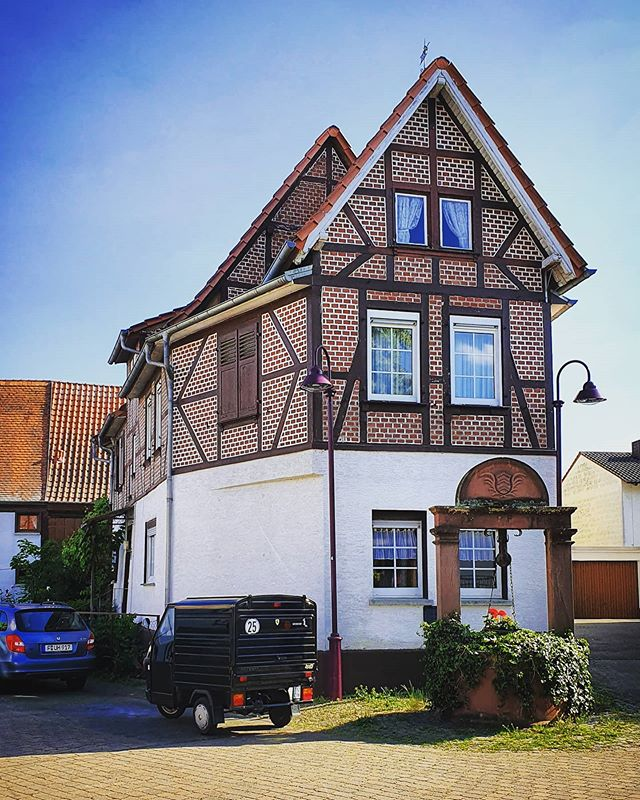building: (105, 42, 584, 710)
car: (140, 585, 333, 741), (1, 587, 105, 685)
sky: (1, 3, 353, 357), (453, 1, 640, 249)
